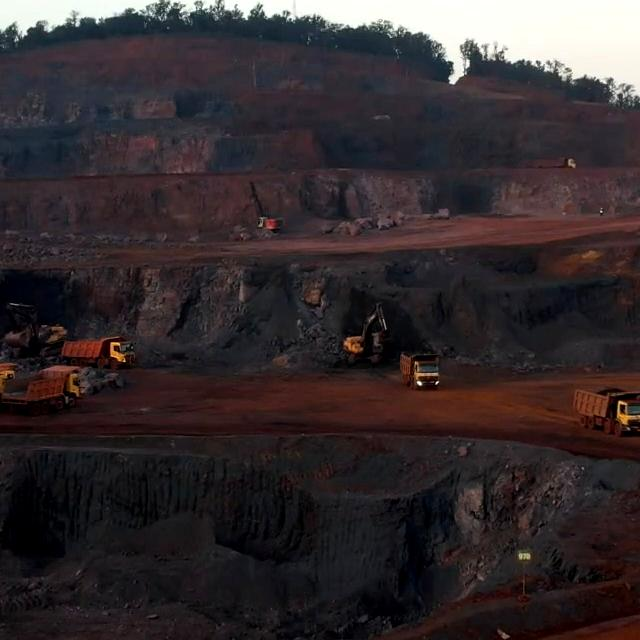Blast rig: (258, 219, 290, 237)
Dumper truck: (5, 367, 78, 408), (590, 388, 640, 430), (402, 353, 442, 388)
Excavator: (3, 301, 61, 357), (338, 330, 388, 368)
